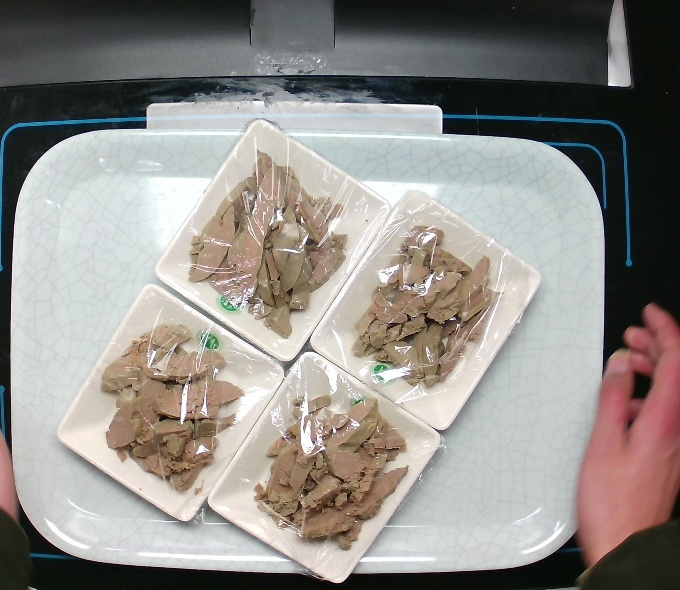wcq-EGan: (177, 140, 349, 335), (352, 230, 502, 398), (257, 386, 408, 550), (102, 326, 242, 493)
